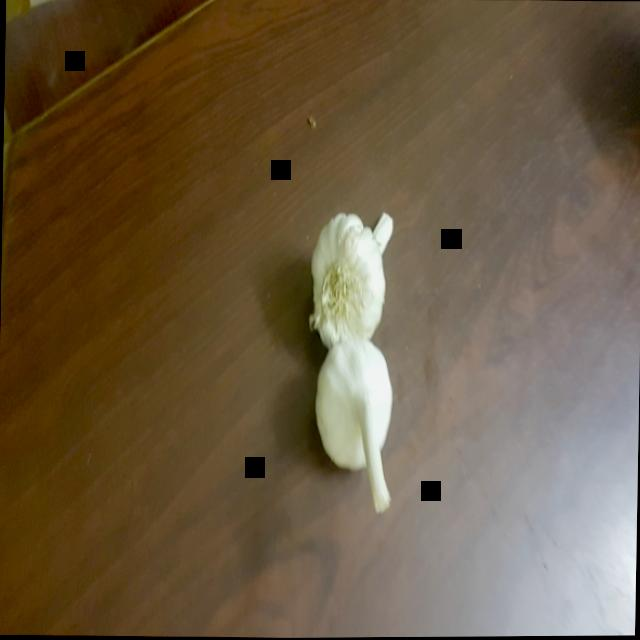garlic: (308, 340, 407, 519), (301, 206, 402, 348)
